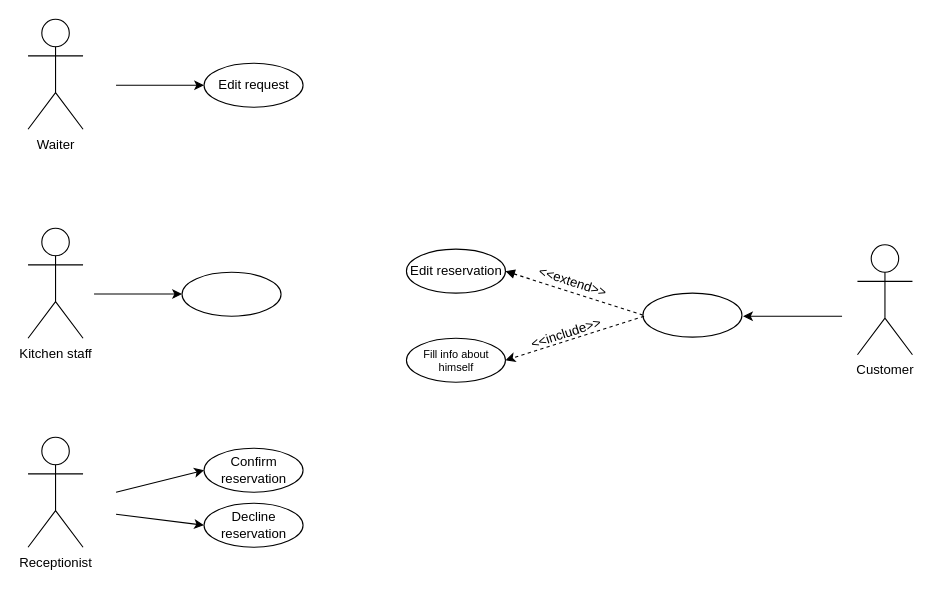
Some shapes in this 932 by 590 pixel diagram are drawn without their labels. The shapes that lost their labels are listed below. From the top down, each one's box as (x1, y1, x2, y2) in pixels, then its label:
(181, 271, 281, 316): Get request info
(642, 292, 742, 337): Do reservation
